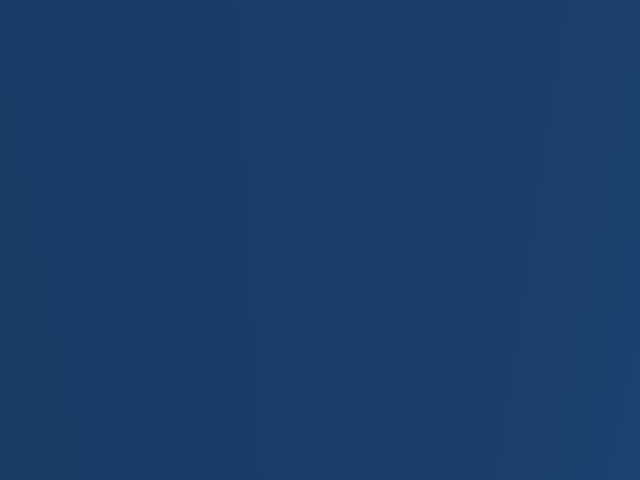puck: (285, 246, 309, 268), (607, 219, 626, 236)
traffic_light: (280, 85, 310, 156)
